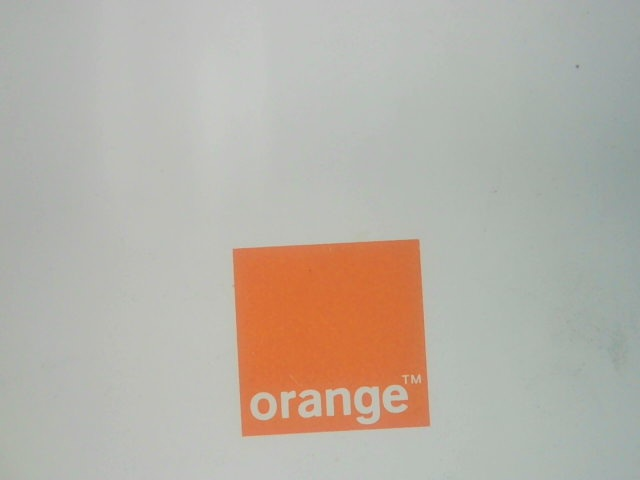AR_Orange: (226, 236, 435, 439)
